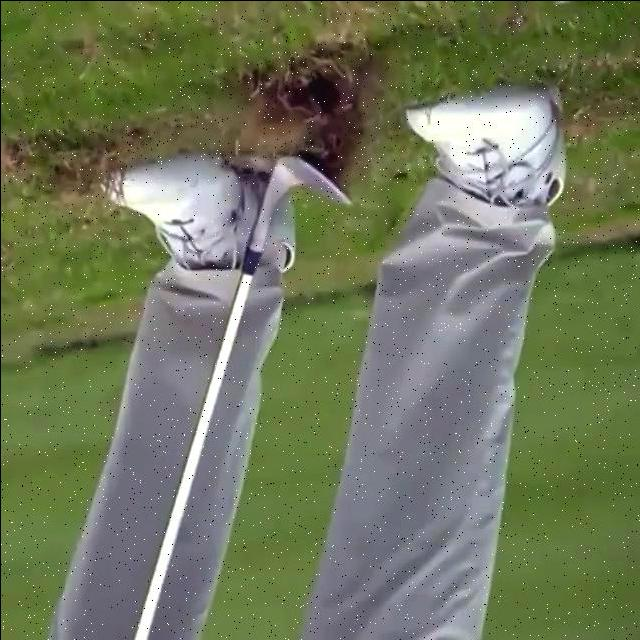ClubHandle: (131, 159, 354, 640)
ClubHead: (272, 157, 352, 206)
